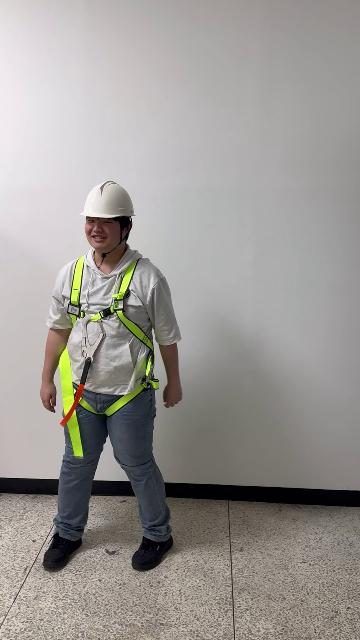helmet_worn: (79, 179, 137, 218)
shoe_not_worn: (131, 534, 173, 570), (42, 532, 82, 569)
vest_worn: (56, 255, 160, 451)
